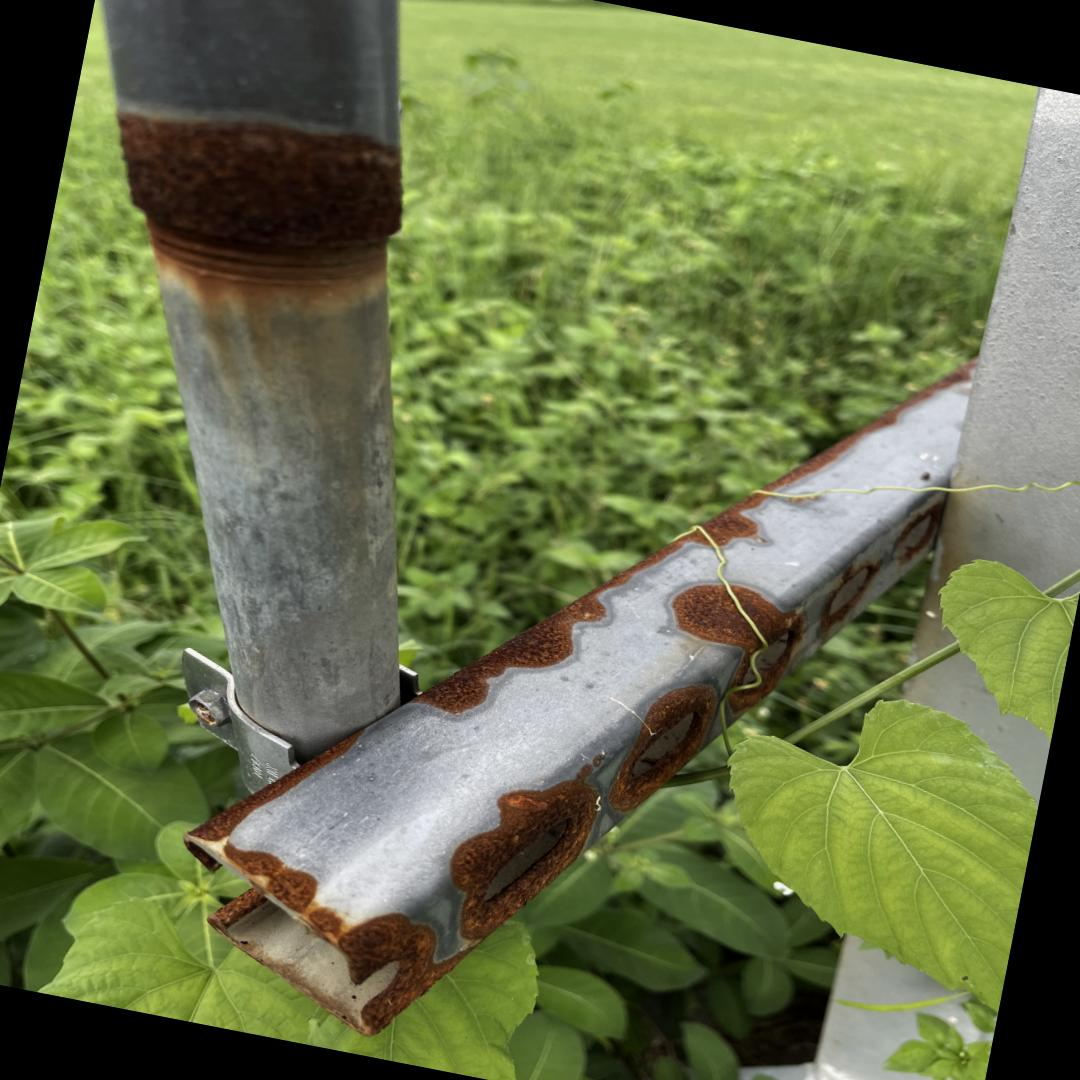Metal: (183, 366, 974, 1034), (100, 0, 411, 762), (937, 88, 1080, 596), (904, 618, 1052, 816), (769, 946, 961, 1080)
Metal corroido: (411, 358, 973, 713), (185, 727, 477, 1032), (118, 111, 401, 274), (450, 755, 604, 947), (672, 584, 805, 712), (611, 684, 719, 813), (821, 561, 881, 634), (894, 502, 944, 562), (210, 886, 269, 927)
